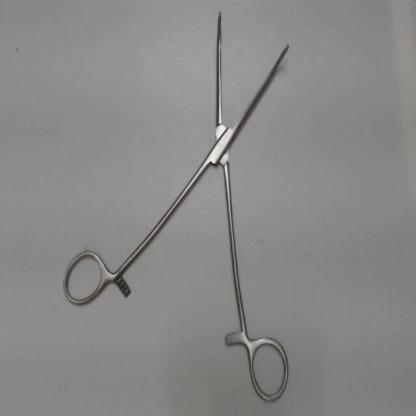Lahey Forceps: (60, 5, 296, 411)
